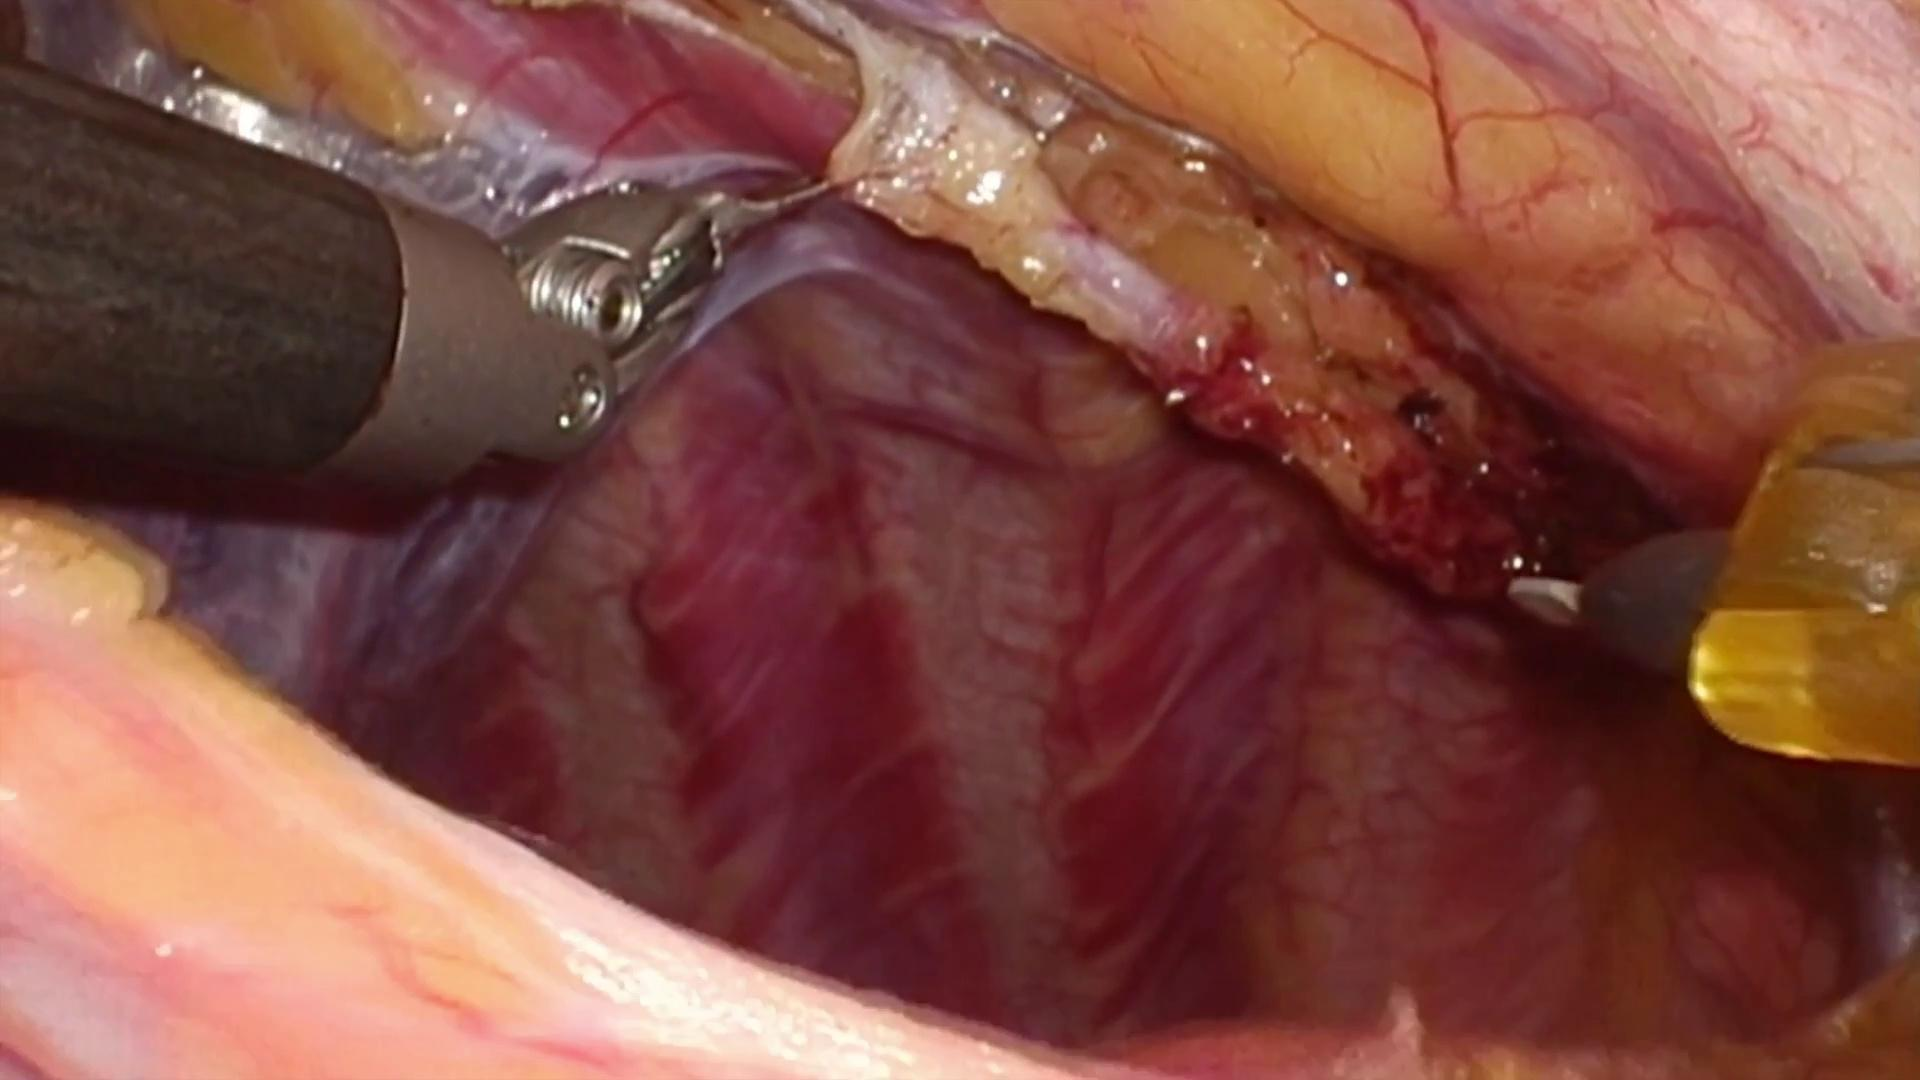Cautery_Spatula: (1501, 518, 1733, 695)
Debakey: (700, 162, 876, 277)
